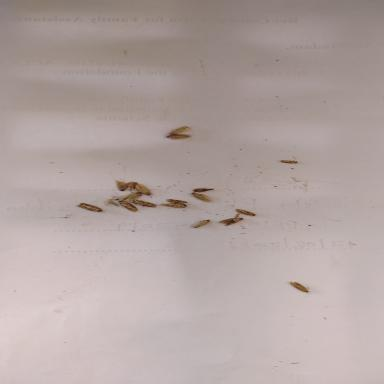pbw: (288, 280, 309, 296), (164, 126, 193, 136), (76, 202, 104, 212), (117, 200, 138, 212), (217, 217, 244, 226), (120, 192, 143, 202), (134, 184, 153, 196), (191, 192, 213, 202), (116, 180, 134, 191), (189, 219, 211, 228), (234, 208, 256, 217), (131, 200, 157, 207), (160, 203, 192, 208), (164, 134, 195, 139), (105, 198, 120, 206), (166, 199, 188, 204), (280, 160, 299, 164)
